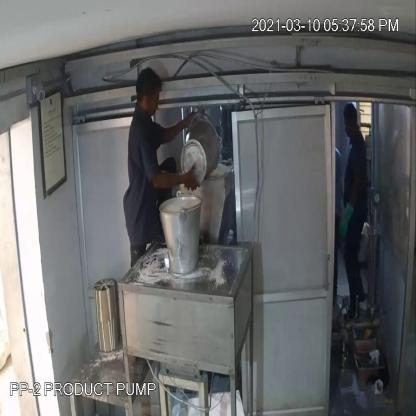no_glove: (144, 156, 206, 204), (160, 114, 200, 152)
